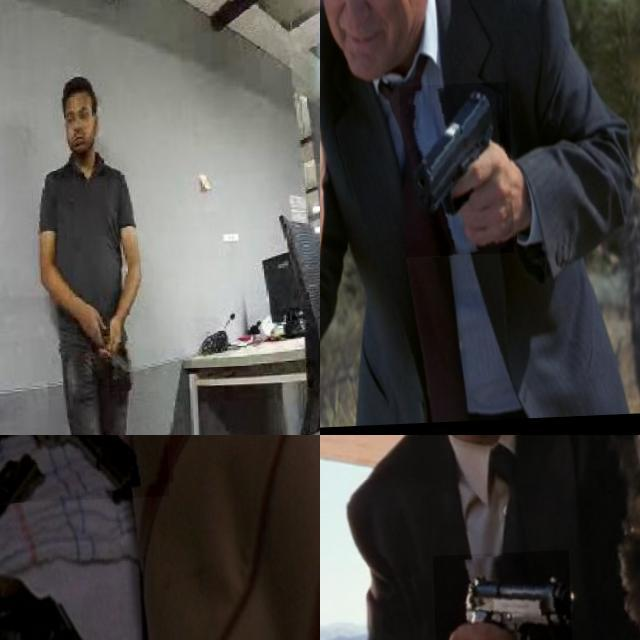-: (104, 345, 131, 395)
gun-knife-thesis - v11 Yolov5 augmented: (397, 86, 511, 261), (0, 435, 166, 553), (0, 435, 107, 560), (429, 553, 570, 640), (0, 549, 104, 640)
